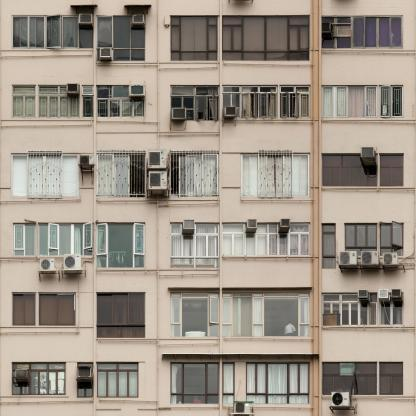Building Outline: (1, 1, 416, 416)
Facade: (1, 1, 416, 416)
Floor: (0, 136, 416, 212), (0, 1, 416, 75), (0, 212, 416, 281), (0, 281, 416, 349), (1, 349, 416, 415), (0, 76, 416, 137)
Floor Slab: (0, 71, 416, 76), (0, 410, 416, 415), (0, 207, 416, 212), (0, 131, 416, 136), (0, 344, 416, 349), (0, 276, 416, 281)
Window: (222, 15, 310, 61), (241, 153, 311, 198), (222, 85, 310, 118), (322, 85, 404, 118), (96, 292, 146, 338), (169, 153, 219, 198), (97, 153, 147, 198), (170, 15, 218, 61), (171, 292, 220, 337), (264, 292, 311, 336), (170, 362, 219, 404), (38, 223, 94, 256), (322, 362, 377, 395), (222, 292, 263, 336), (170, 85, 220, 121), (45, 153, 80, 198), (11, 153, 45, 198), (38, 292, 76, 326), (107, 222, 134, 268), (322, 166, 377, 186), (322, 16, 353, 49), (379, 153, 404, 186), (378, 16, 403, 49), (353, 16, 378, 49), (12, 292, 36, 326), (345, 223, 377, 248), (379, 362, 403, 395), (379, 293, 403, 326), (14, 224, 36, 256), (288, 362, 310, 394), (321, 223, 336, 269), (246, 362, 267, 394), (267, 362, 288, 394), (322, 293, 341, 326), (77, 362, 94, 398), (380, 223, 404, 248), (359, 293, 377, 326), (341, 293, 359, 326), (170, 235, 195, 258), (118, 371, 139, 398), (97, 371, 118, 398), (45, 15, 62, 48), (113, 15, 130, 48), (96, 15, 113, 48), (222, 361, 235, 404), (12, 95, 36, 118), (195, 235, 219, 258), (62, 15, 78, 48), (12, 15, 28, 48), (29, 15, 45, 48), (96, 222, 107, 268), (134, 222, 145, 268), (222, 234, 245, 256), (245, 234, 268, 256), (96, 98, 121, 118), (59, 95, 80, 118), (38, 95, 59, 118), (121, 98, 145, 118), (290, 234, 311, 256), (268, 234, 289, 256), (49, 370, 67, 395), (12, 370, 30, 395), (30, 370, 48, 395), (96, 85, 130, 98), (342, 154, 378, 166), (79, 27, 93, 48), (131, 27, 145, 48), (195, 222, 219, 234), (170, 222, 194, 234), (345, 247, 377, 256), (82, 96, 94, 118), (170, 258, 195, 268), (222, 222, 244, 233), (12, 85, 36, 95), (195, 258, 219, 268), (290, 222, 311, 233), (268, 222, 289, 233), (245, 223, 268, 233), (323, 154, 342, 166), (38, 85, 59, 95), (113, 49, 130, 61), (96, 49, 113, 61), (60, 85, 80, 95), (288, 395, 310, 404), (130, 85, 145, 98), (380, 248, 404, 256), (246, 395, 267, 404), (267, 395, 288, 404), (131, 49, 145, 61), (79, 15, 93, 27), (118, 362, 139, 370), (97, 362, 118, 370), (131, 16, 145, 27), (49, 362, 67, 370), (12, 362, 30, 370), (30, 362, 48, 370), (82, 85, 94, 95)
